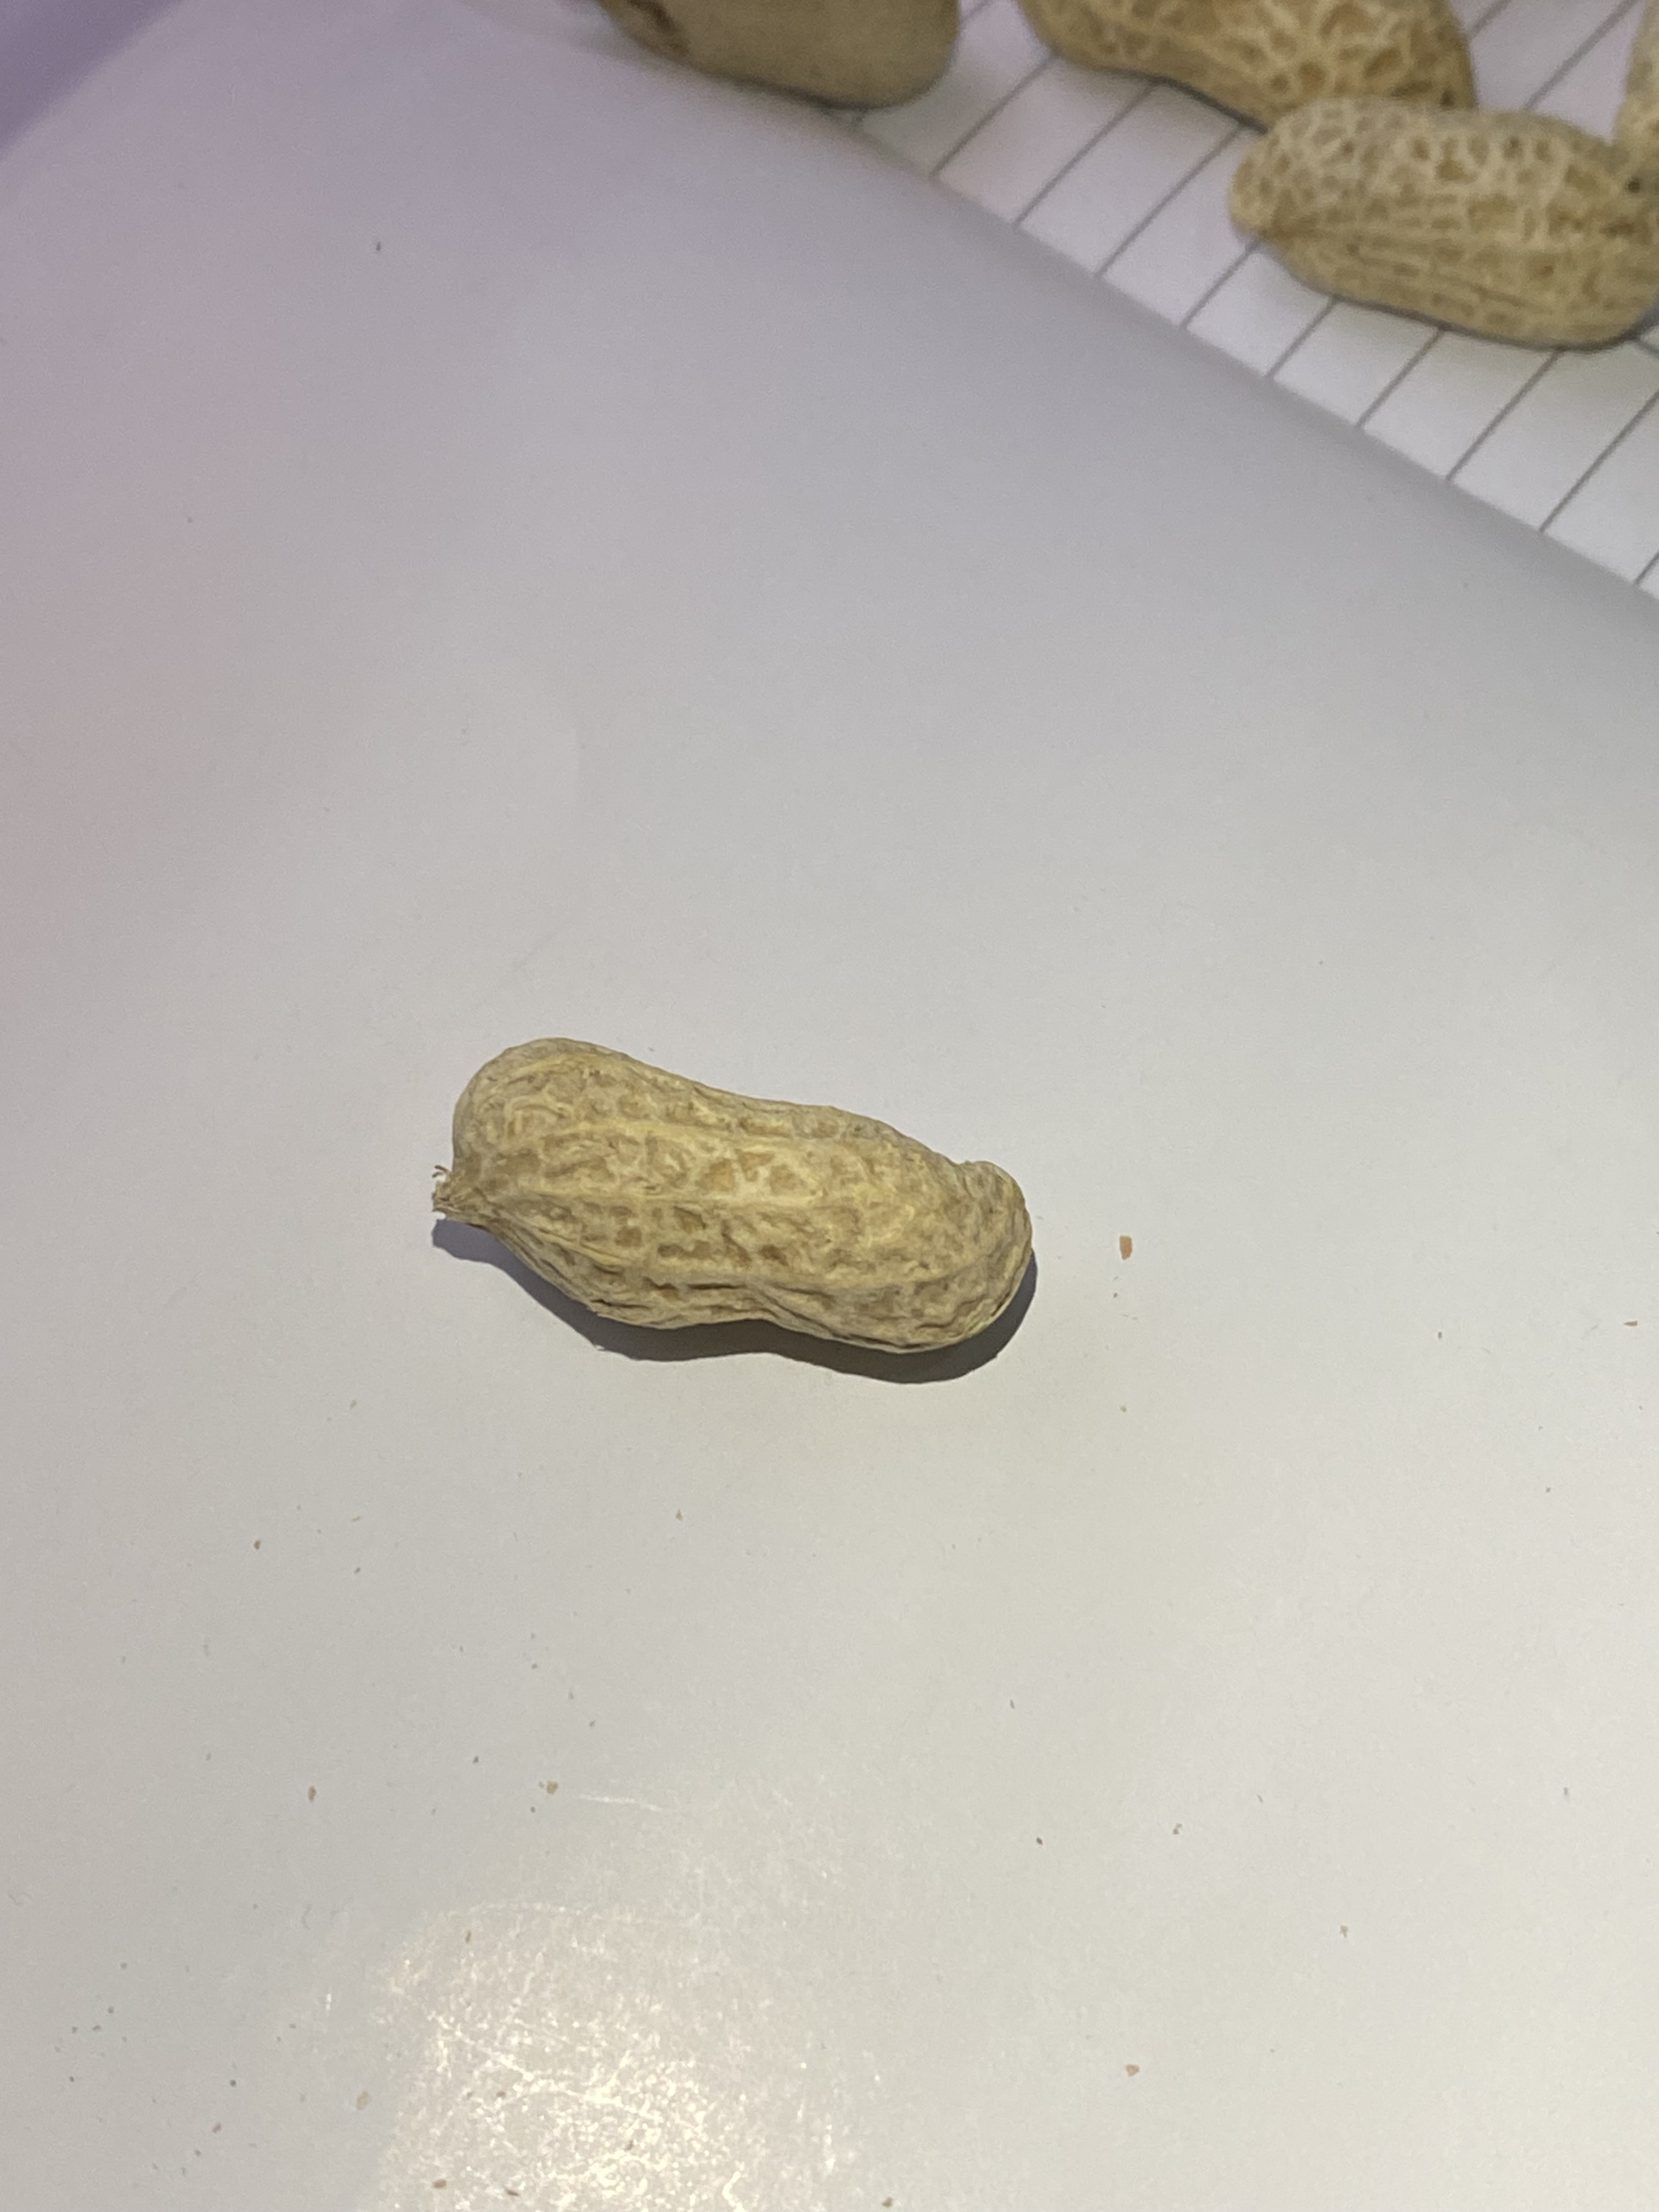kacang2: (429, 1014, 1037, 1393)
